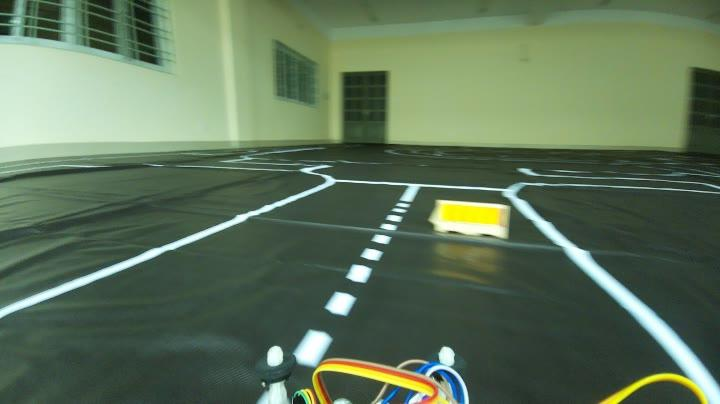roadblock: (422, 194, 518, 249)
